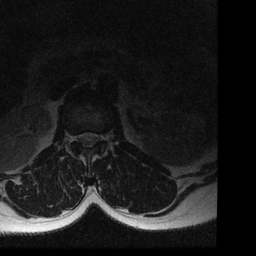CCS_stenosis: (84, 126, 91, 153)
LFS_normal: (98, 128, 104, 147)
LLS_stenosis: (91, 128, 98, 147)
RFS_stenosis: (71, 128, 78, 146)
RLS_normal: (78, 126, 84, 147)
